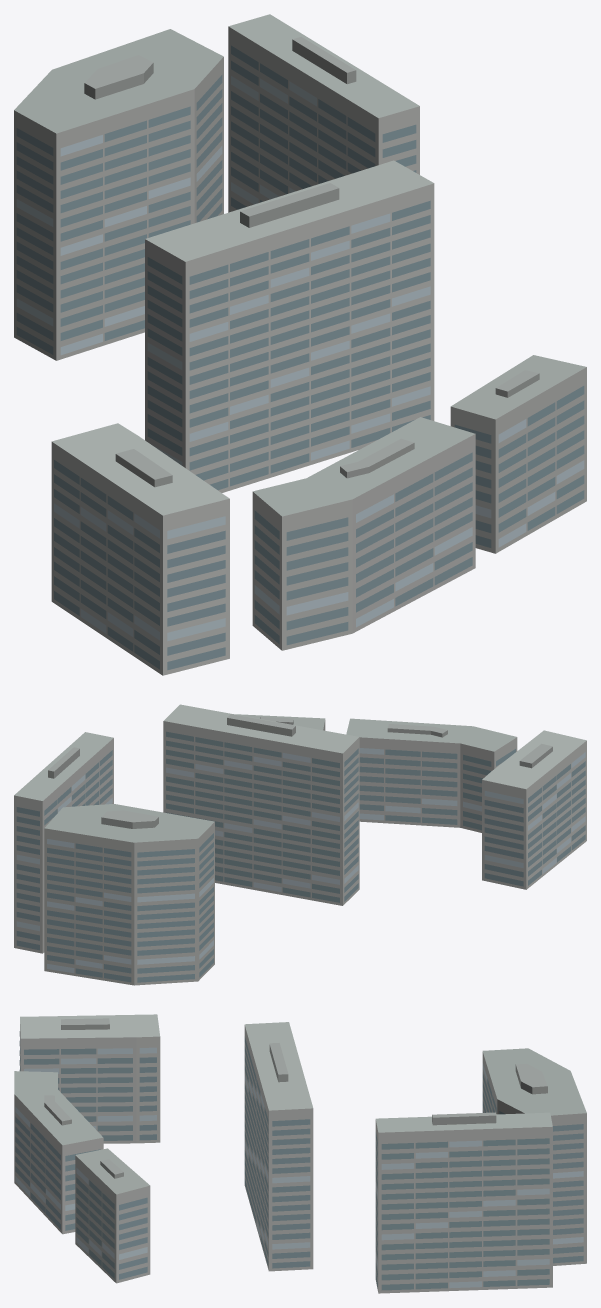
The model's file is apt-a12005001.glb.
The picture shows the model from 3 angles, top to bottom: view 1: azimuth 30°, elevation 25°; view 2: azimuth 150°, elevation 25°; view 3: azimuth 270°, elevation 25°; orthographic projection. The views are drawn at different scales.
Parts seen in each view (by area): view 1: apt-a12005001; view 2: apt-a12005001; view 3: apt-a12005001.
Part boxes in pixels (box(x1,y1,x2,y2)): apt-a12005001: box(14, 14, 586, 675); apt-a12005001: box(14, 704, 586, 985); apt-a12005001: box(14, 1014, 586, 1293).
Size of the model in its own units: 104 by 47 by 145.
